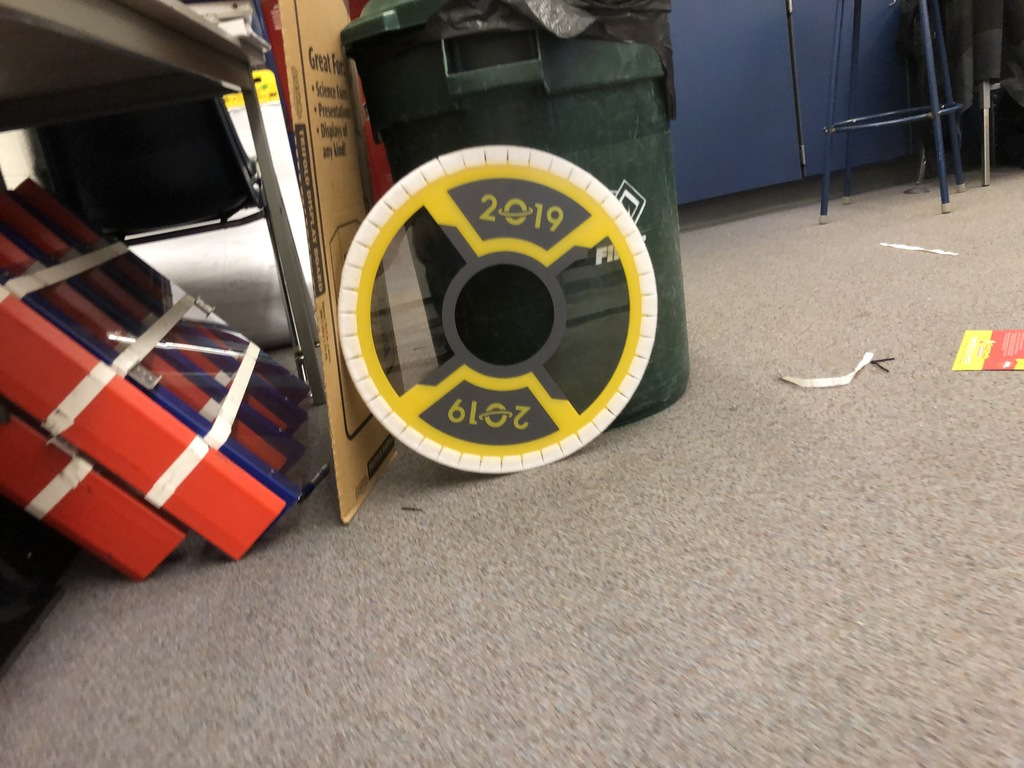hatch_panel: (315, 140, 669, 487)
